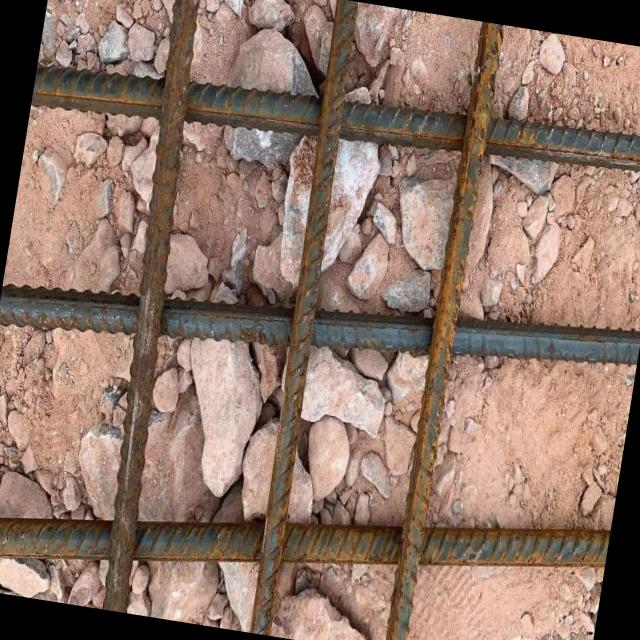ribbed bar: (0, 429, 611, 640), (0, 228, 640, 424), (31, 36, 640, 207), (76, 0, 225, 612), (236, 0, 372, 635), (380, 21, 504, 640)
